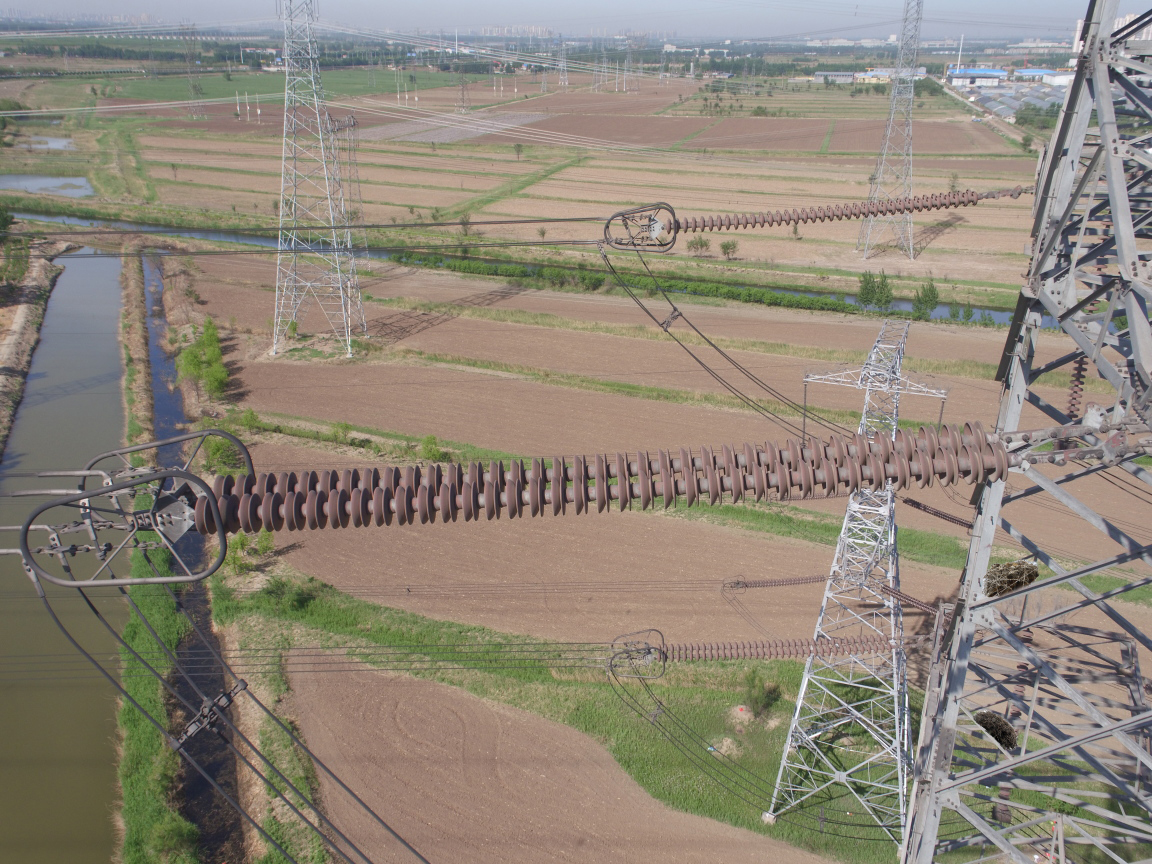nest: (973, 700, 1021, 749), (983, 557, 1040, 597)
